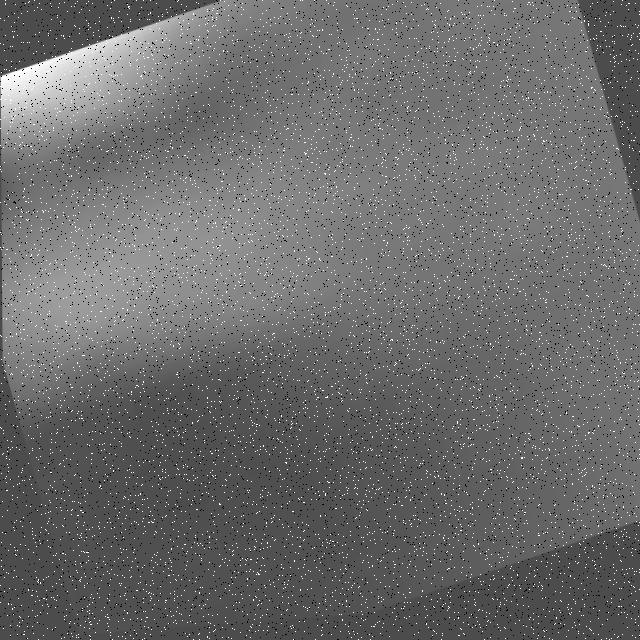person: (2, 79, 507, 440), (1, 1, 255, 155)
